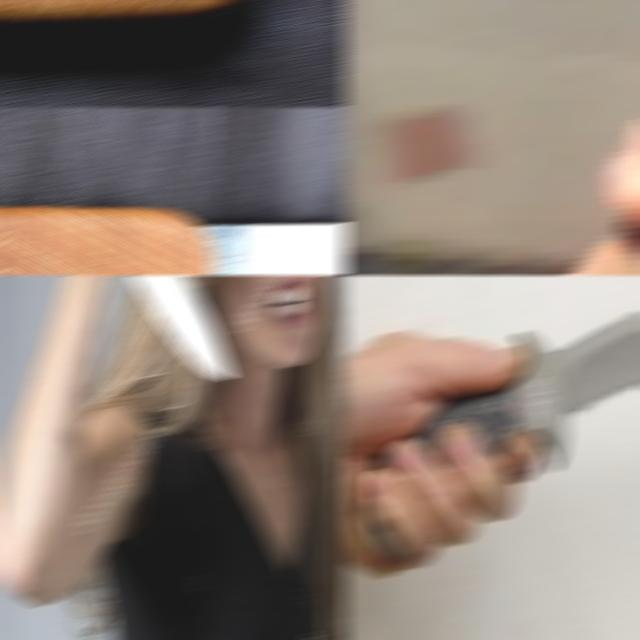Knife: (412, 310, 640, 470), (127, 276, 234, 379)
Knife_Handle: (403, 3, 640, 274), (46, 276, 238, 393)
